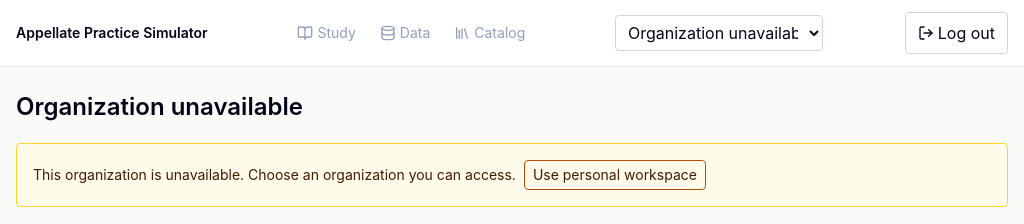
OrganizationContextProvider › does not retarget a pending personal bootstrap after choosing another organization
Expected: the message shows "organization is unavailable", [33,166,516,183]
Click the button "Use personal workspace" at (615, 175), box [524,160,706,190]
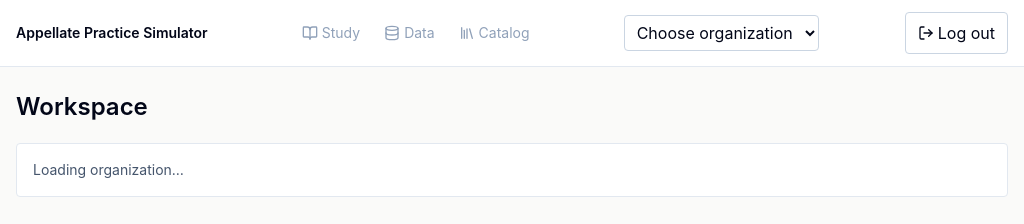
Select "Org B" in the dropdown named "Organization" at (721, 33), box [624,15,819,51]
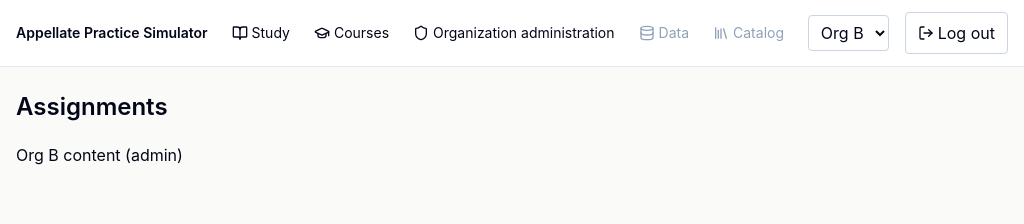
Result: the text "Org B content (admin)" is shown at [16,145,183,165]
